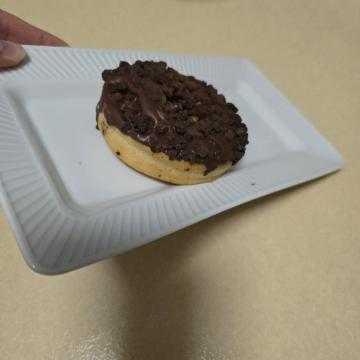doughnut: (53, 107, 194, 277)
